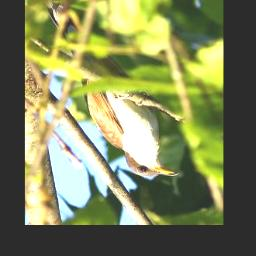Cuckoo: (42, 0, 182, 182)
